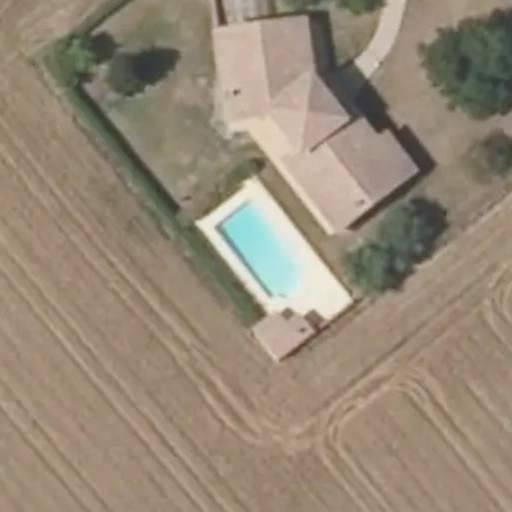pool: (206, 222, 310, 267)
